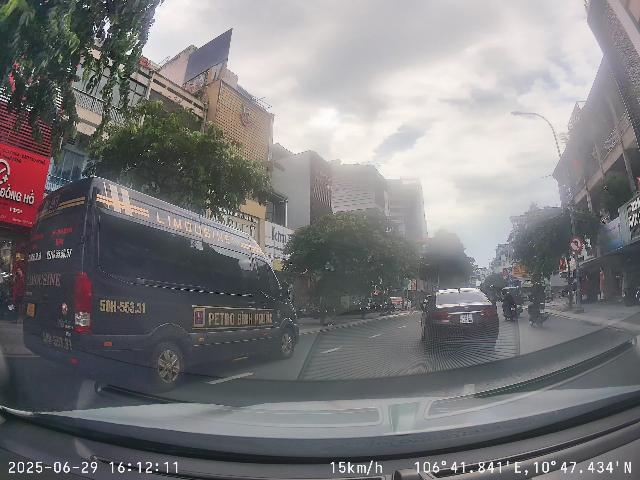123a-cam-re-trai: (569, 237, 583, 253)
